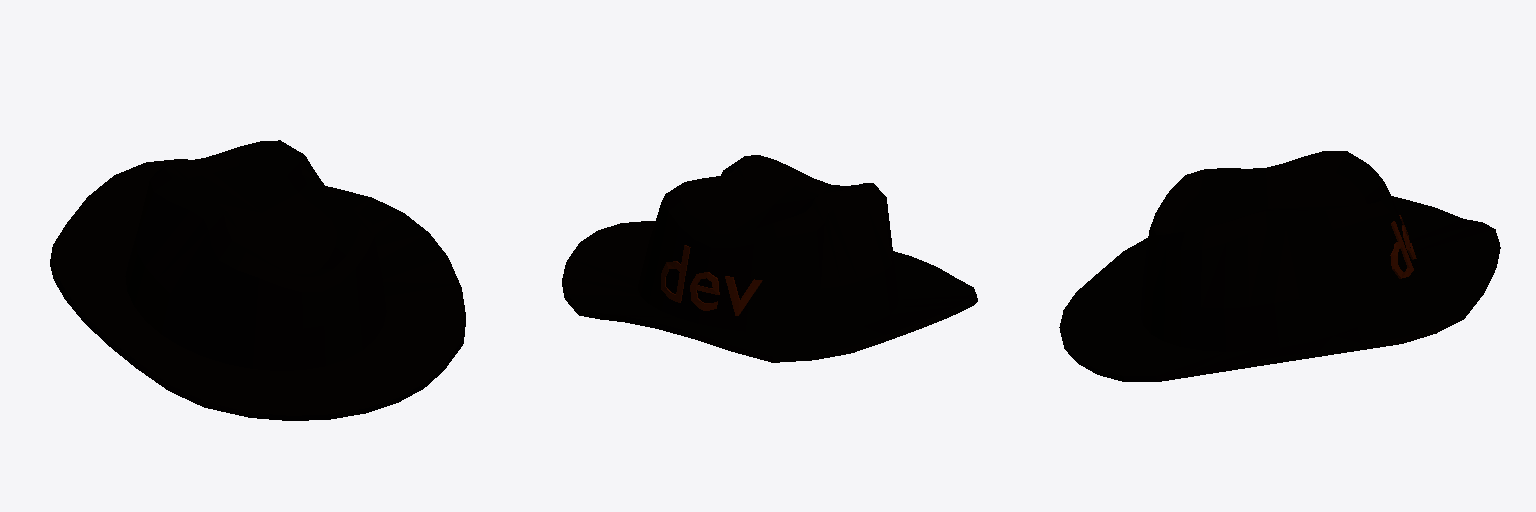
File: cowboyhat_basic_dev.sgm.obj
3 views of the same model, side by side, from view 1: azimuth 30°, elevation 25°; view 2: azimuth 150°, elevation 25°; view 3: azimuth 270°, elevation 25° (orthographic).
Parts seen in each view (by area): view 1: 0; view 2: 0, 1; view 3: 0, 1.
Part boxes in pixels (left/top/right/bottom): 0: left=50, top=140, right=465, bottom=420; 0: left=562, top=155, right=977, bottom=362; 1: left=661, top=245, right=762, bottom=315; 0: left=1059, top=151, right=1500, bottom=381; 1: left=1390, top=215, right=1416, bottom=278.
Bounding box in the file's own units: 0.6292 × 0.267 × 0.6917.